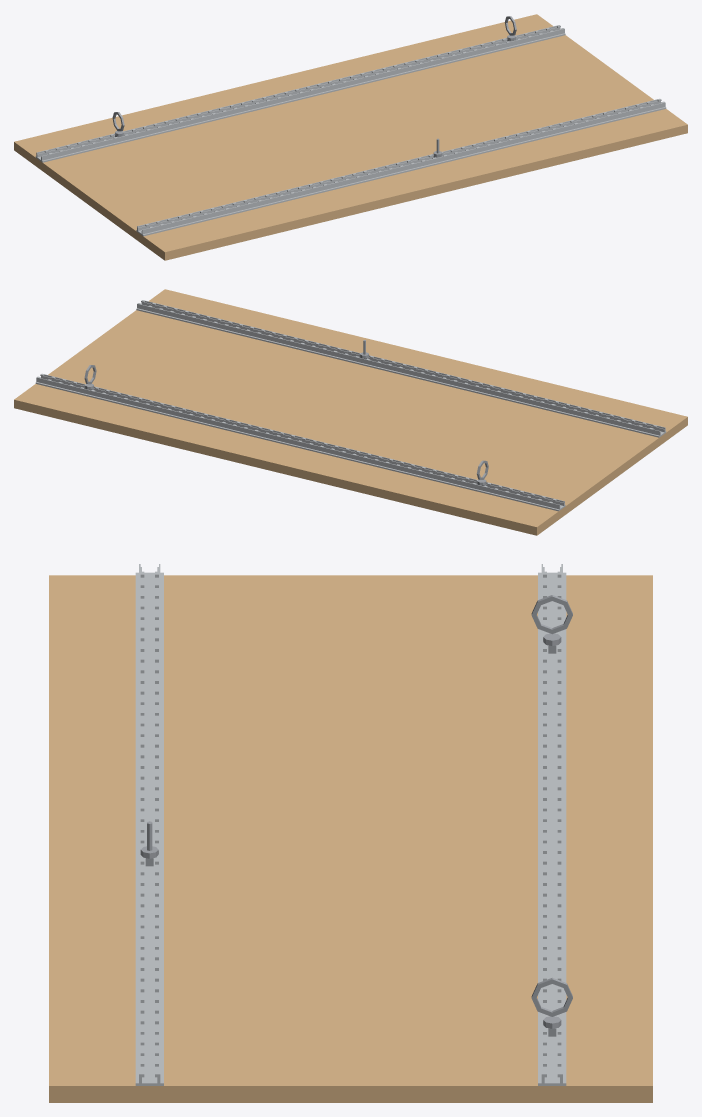
File: l_track_floor.mid.glb
3 renders of one model, top to bottom at view 1: azimuth 30°, elevation 25°; view 2: azimuth 150°, elevation 25°; view 3: azimuth 270°, elevation 25°, orthographic. The views are drawn at different scales.
Parts seen in each view (by area): view 1: l_track_floor, track_2, track_1; view 2: l_track_floor, track_2, track_1; view 3: l_track_floor, track_2, track_1, fitting_ring_1, fitting_ring_2.
Boxes of the visible parts, x1=… form: l_track_floor: x1=14, y1=14, x2=687, y2=260; track_2: x1=136, y1=98, x2=666, y2=236; track_1: x1=35, y1=25, x2=565, y2=162; l_track_floor: x1=14, y1=289, x2=687, y2=535; track_2: x1=136, y1=300, x2=666, y2=437; track_1: x1=35, y1=373, x2=565, y2=511; l_track_floor: x1=49, y1=575, x2=652, y2=1102; track_2: x1=135, y1=564, x2=163, y2=1085; track_1: x1=538, y1=564, x2=566, y2=1085; fitting_ring_1: x1=531, y1=977, x2=572, y2=1036; fitting_ring_2: x1=531, y1=595, x2=572, y2=653.
Bounding box in the file's own units: 1.22 × 0.0827 × 0.6096.
